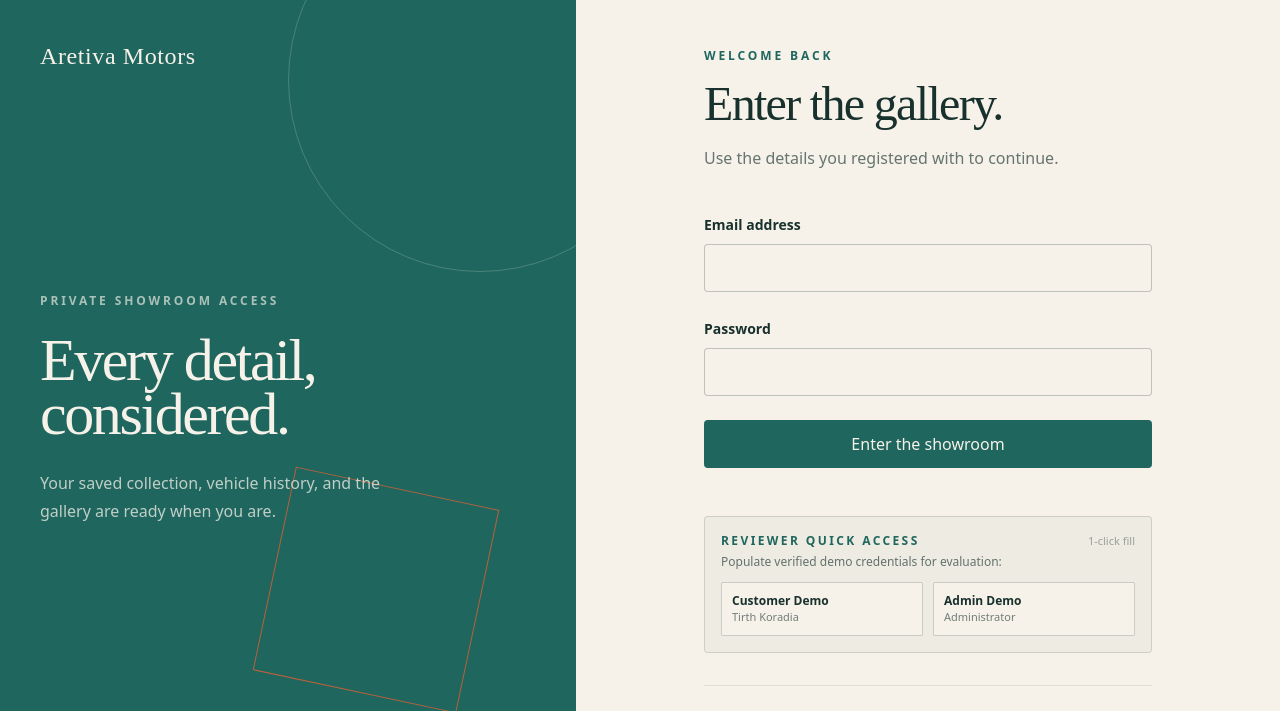
Test case: login page › autofills customer and admin credentials when clicking reviewer buttons
Click the button "Customer Demo Tirth Koradia": point(822, 609) left=721, top=582, right=923, bottom=636
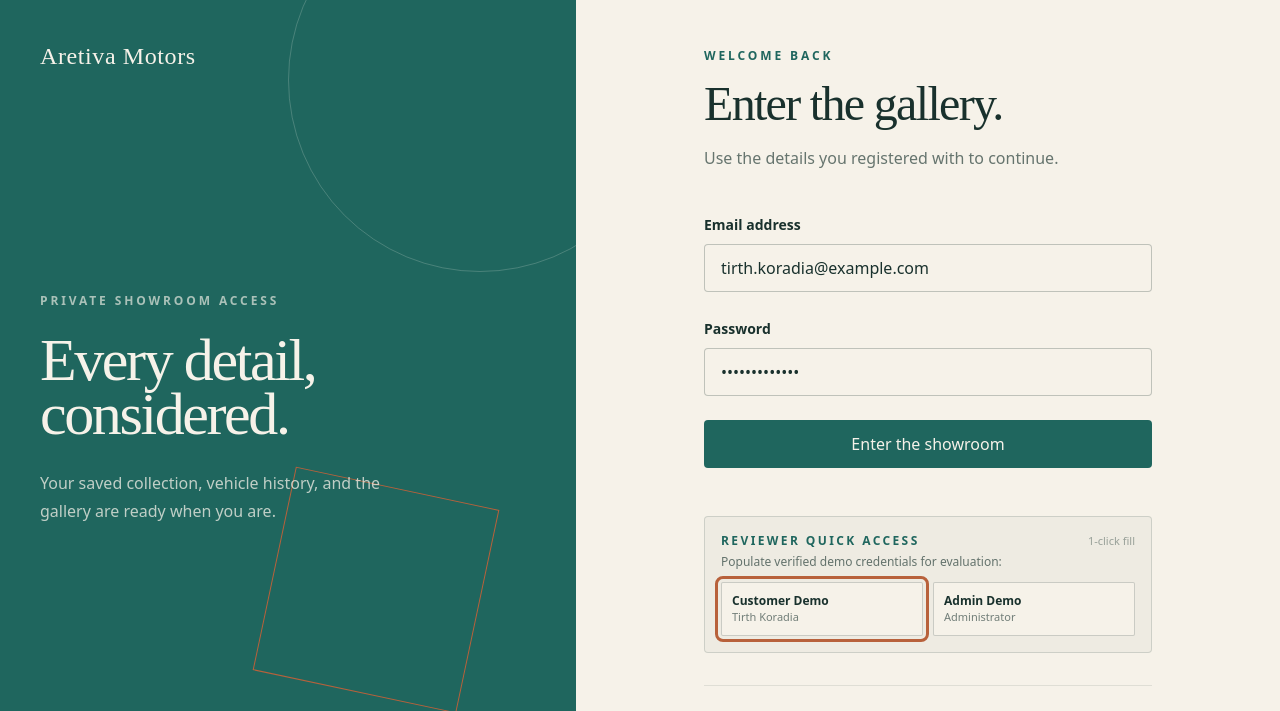
Expected: the field labelled "Email address" holds "tirth.koradia@example.com", left=704, top=244, right=1152, bottom=292
Expected: the password field labelled "Password" holds "Customer1234!", left=704, top=348, right=1152, bottom=396
Click the button "Admin Demo Administrator": point(1034, 609) left=933, top=582, right=1135, bottom=636
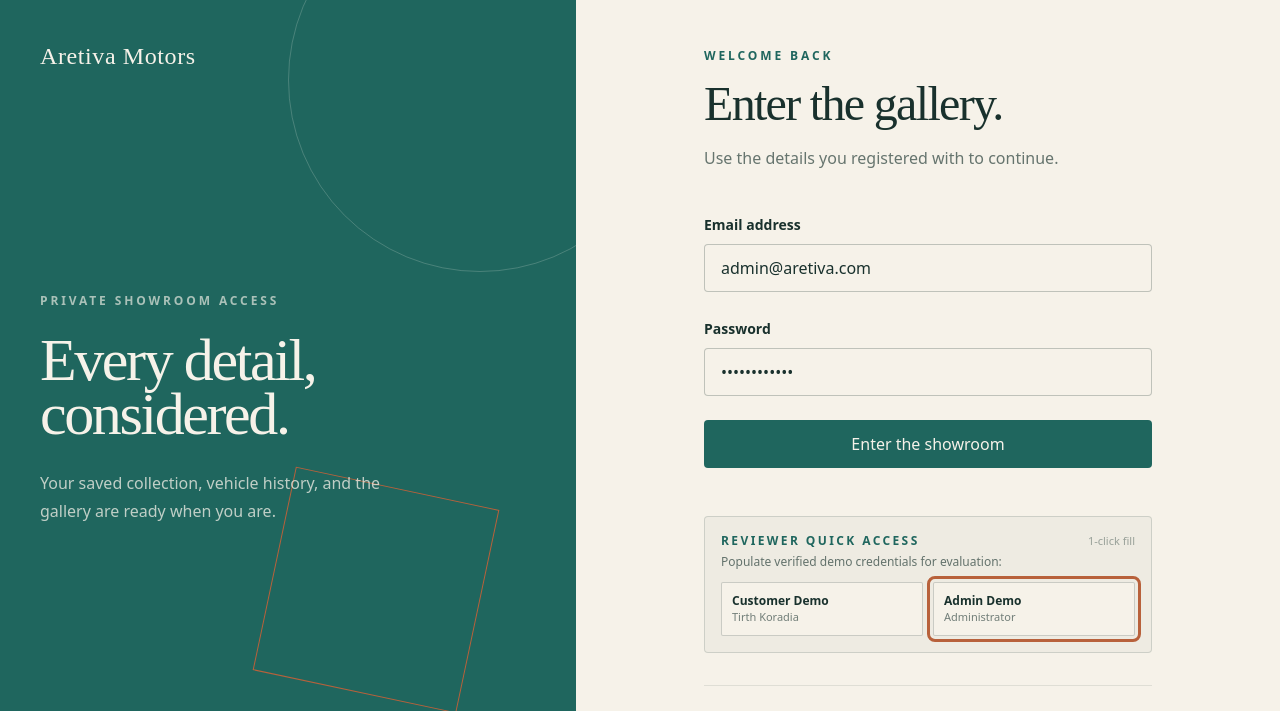
Expected: the password field labelled "Password" holds "ChangeMe123!", left=704, top=348, right=1152, bottom=396
Expected: the field labelled "Email address" holds "admin@aretiva.com", left=704, top=244, right=1152, bottom=292
